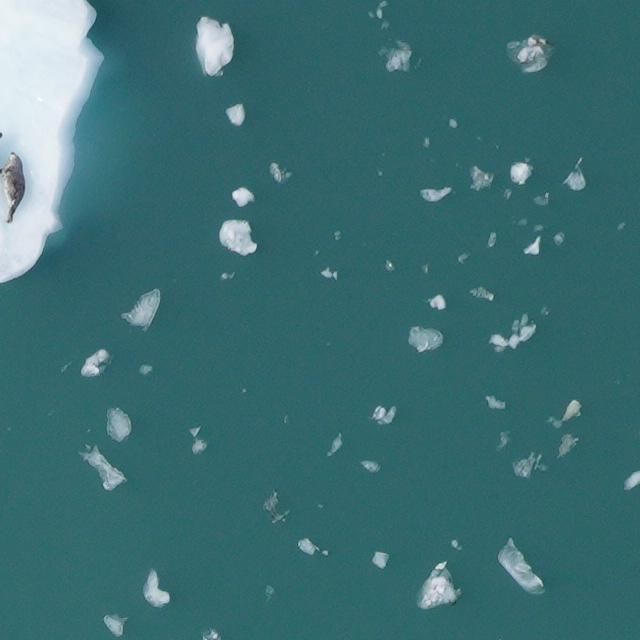seal: (0, 151, 26, 223)
